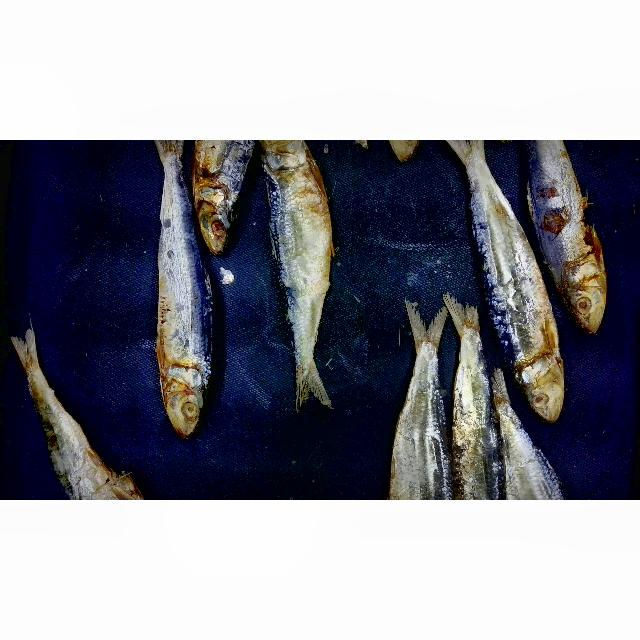Grade_B_Body: (24, 403, 147, 500), (519, 147, 620, 262)
Grade_B_Head: (144, 352, 219, 440), (545, 265, 623, 340)
